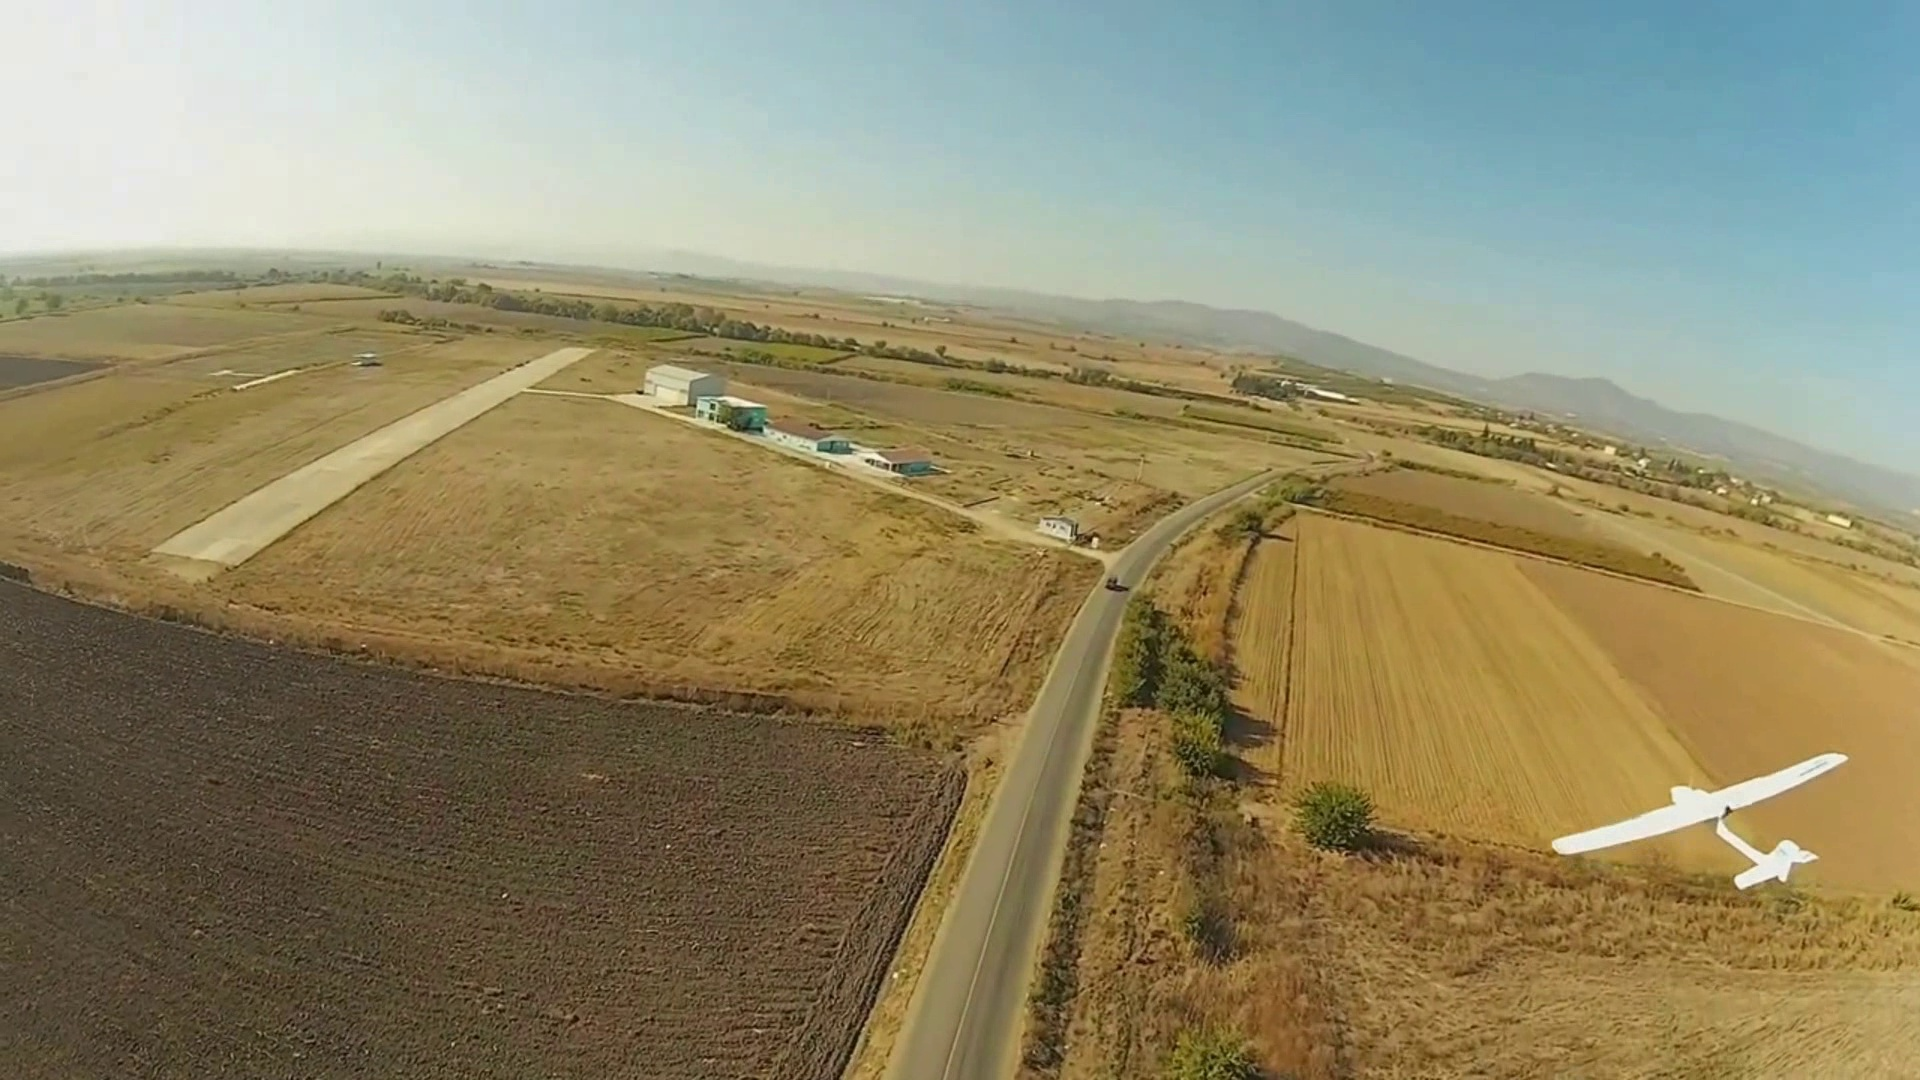airplane: (1549, 752, 1847, 891)
